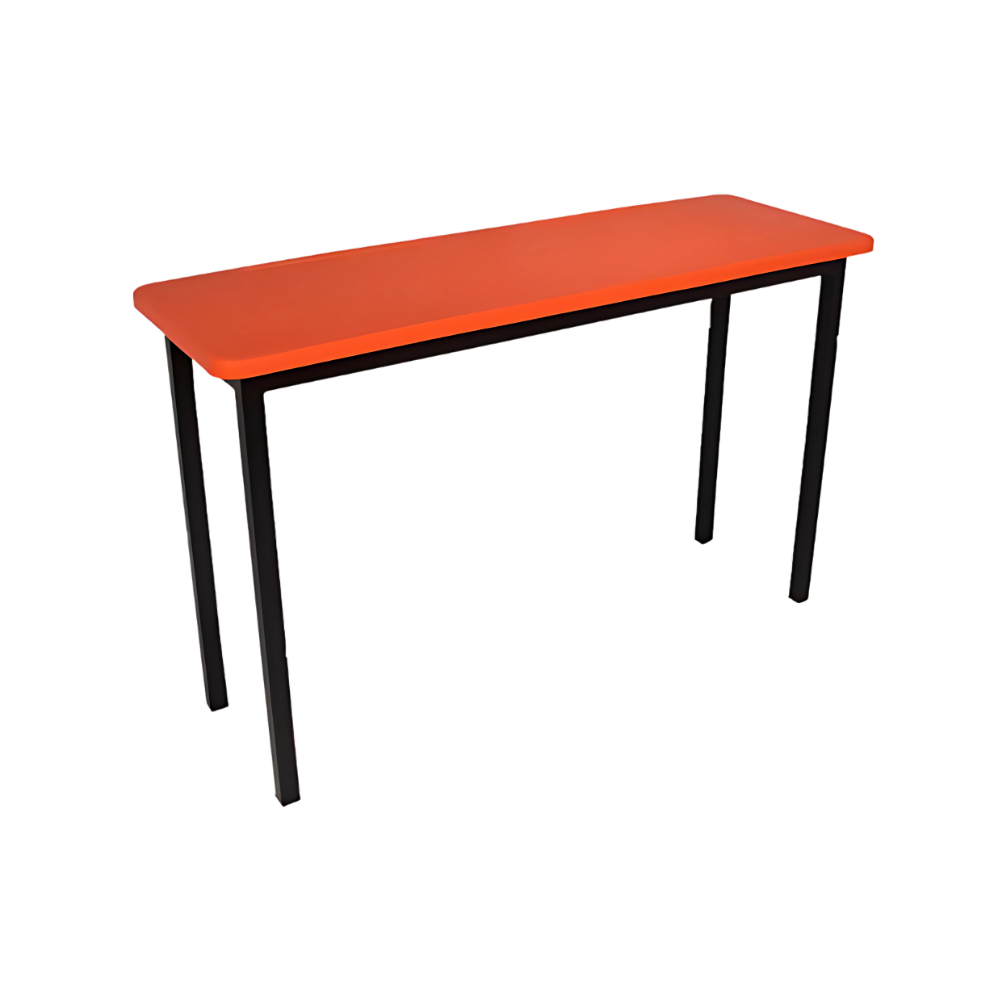m01: (133, 192, 877, 806)
